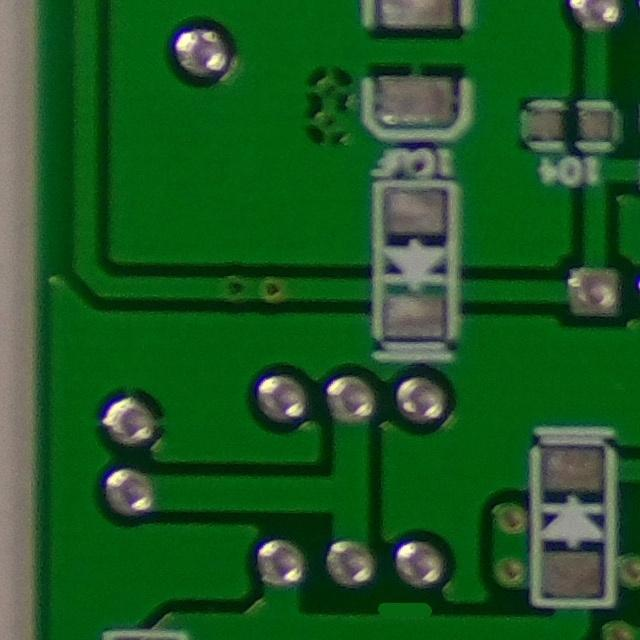spur: (359, 588, 449, 633)
